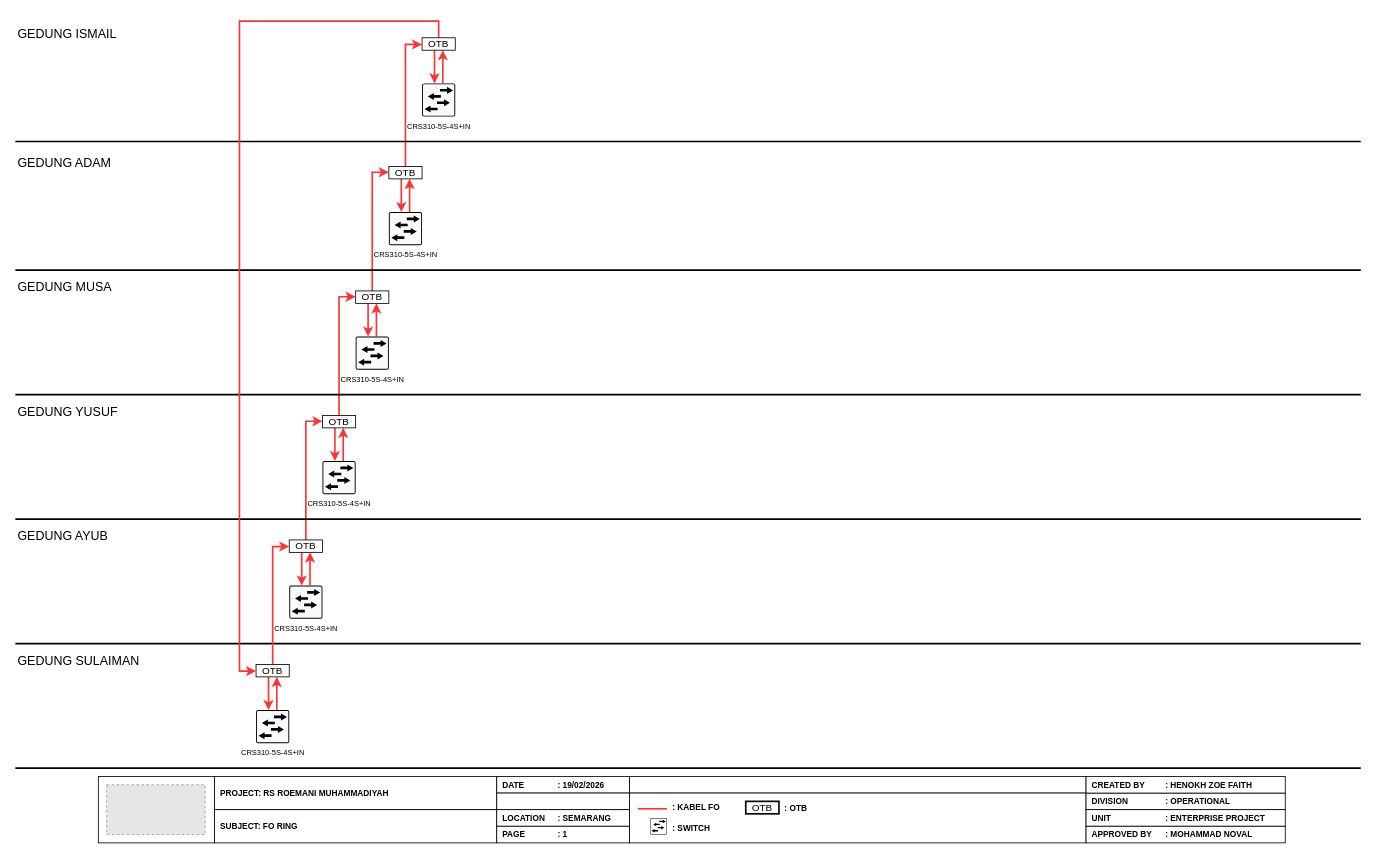
This 1376x857 diagram has some shape labels left out. Grey dashed boxes stand in for pictures. The shapes that lost their labels are listed below. From the top down, each one's box as (x1, y1, x2, y2) in pixels, then its label:
(496, 792, 630, 810): FILE : TOPOLOGY
(629, 776, 1086, 793): LEGEND:
